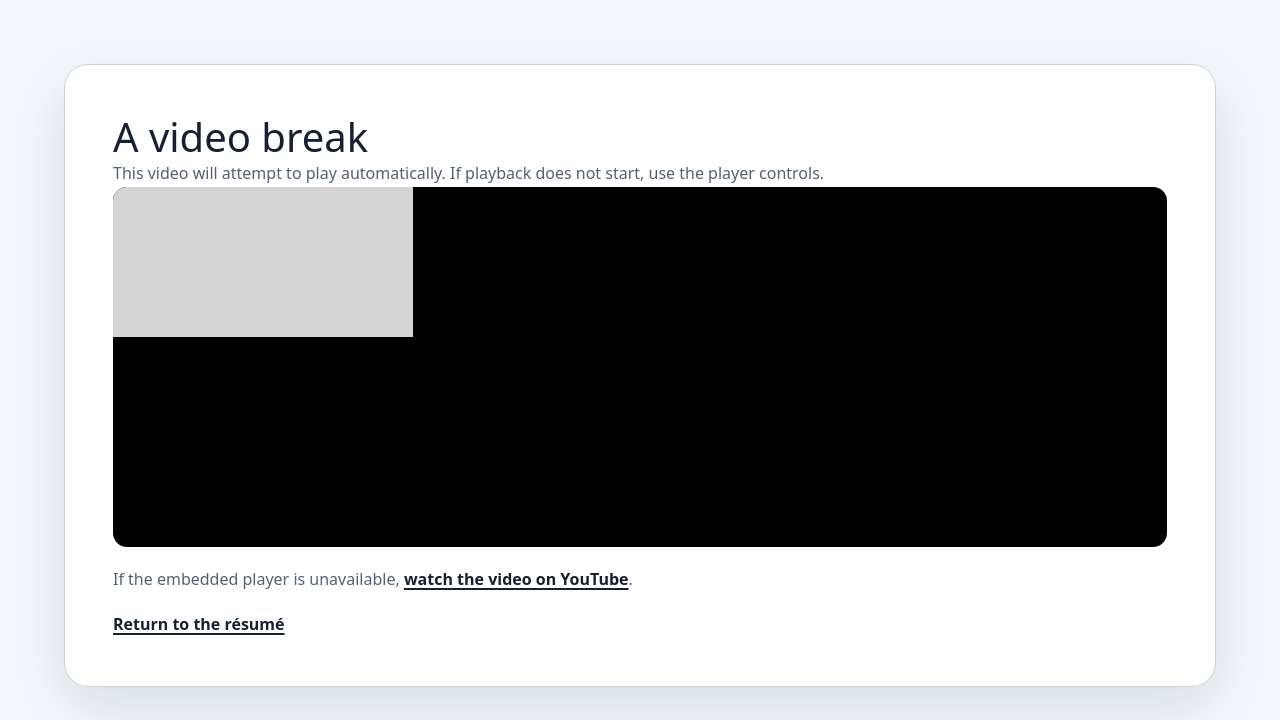
Test: App component orchestration › fallback route › returns from the video fallback to the résumé route
Click the link "Return to the résumé" at coordinates (199, 625), box [113,612,284,638]
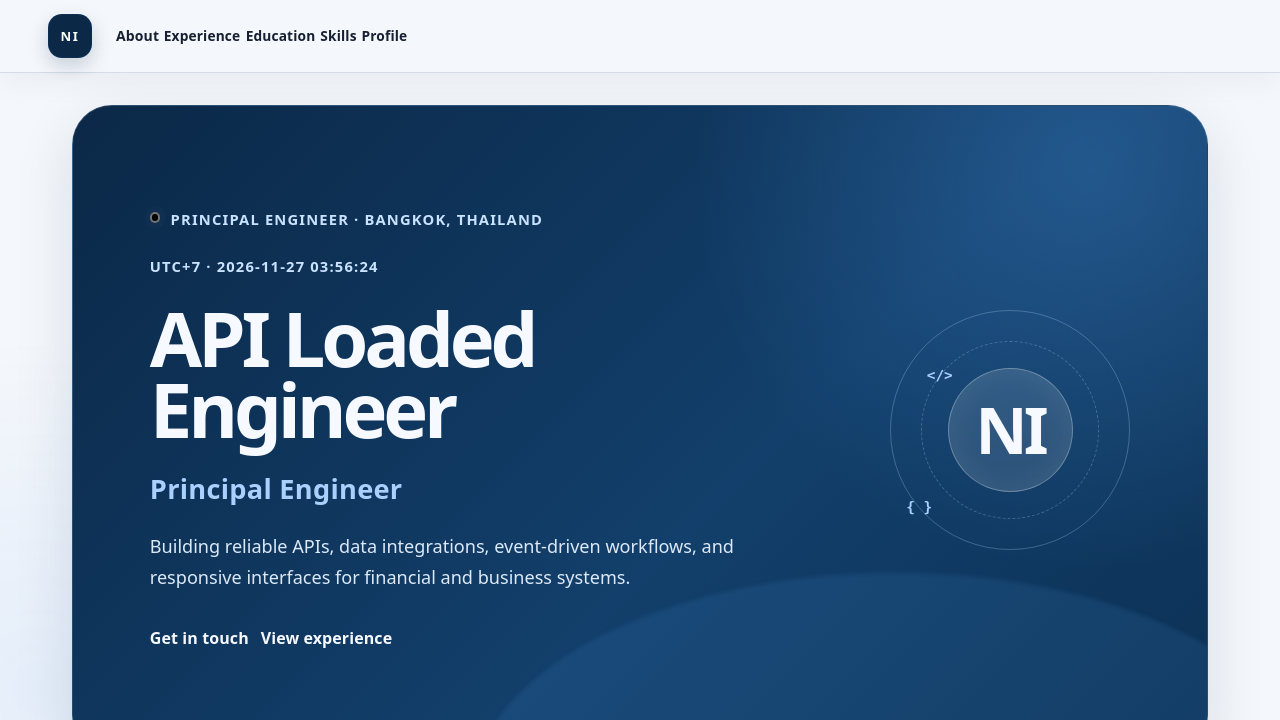
Result: the text "API Loaded Engineer" is shown at [150,286,534,460]
